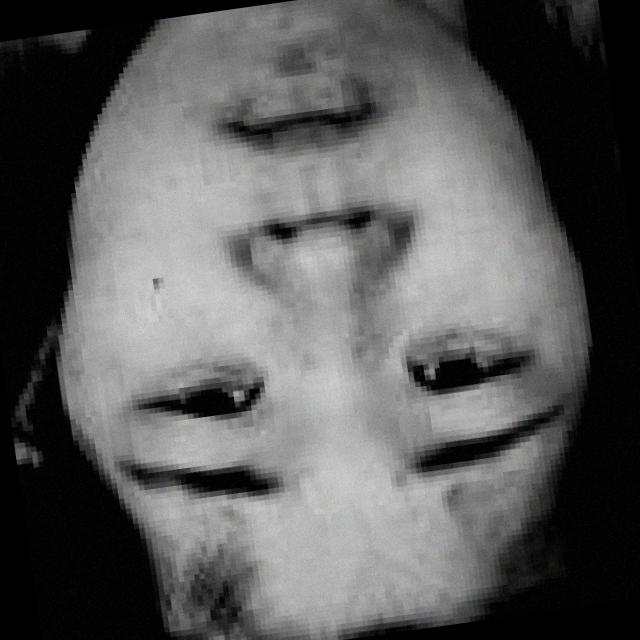sad: (49, 0, 604, 591)
